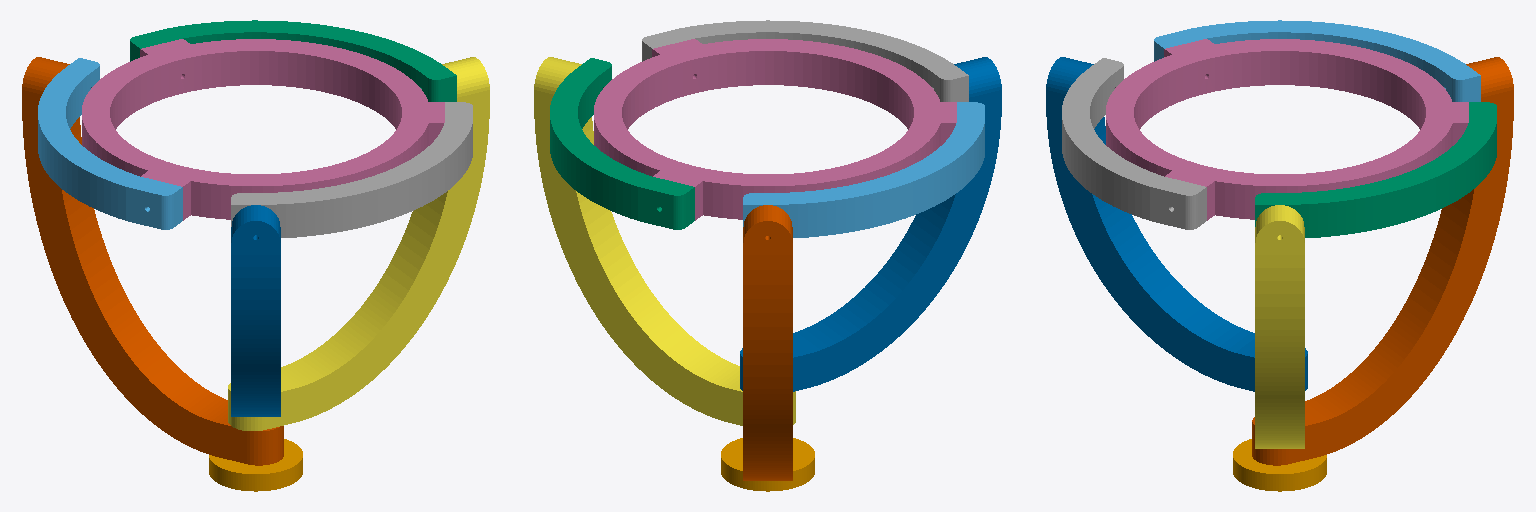
URDF robot description (parallel_manipulator_v2):
<?xml version="1.0" ?>
<robot name="parallel_manipulator_v2">

<material name="silver">
  <color rgba="0.700 0.700 0.700 1.000"/>
</material>

<link name="base_link">
  <inertial>
    <origin xyz="1.629259084781521e-06 -4.365586561478258e-07 -0.1949999999999999" rpy="0 0 0"/>
    <mass value="0.15357950576430882"/>
    <inertia ixx="2.536301546242955e-05" iyy="2.536301546234975e-05" izz="4.816637249537103e-05" ixy="-2.2311041906111956e-20" iyz="-3.9042924912502906e-20" ixz="-6.135694911673338e-20"/>
  </inertial>
  <visual>
    <origin xyz="0 0 0" rpy="0 0 0"/>
    <geometry>
      <mesh filename="meshes/base_link.stl" scale="0.001 0.001 0.001"/>
    </geometry>
    <material name="silver"/>
    <material/>
  </visual>
  <collision>
    <origin xyz="0 0 0" rpy="0 0 0"/>
    <geometry>
      <mesh filename="meshes/base_link.stl" scale="0.001 0.001 0.001"/>
    </geometry>
  </collision>
</link>

<link name="link21">
  <inertial>
    <origin xyz="-0.03324247590388492 -0.0758002087223684 4.898361939060346e-18" rpy="0 0 0"/>
    <mass value="0.45547965177818356"/>
    <inertia ixx="0.0011681570689737106" iyy="0.00016851636729551481" izz="0.001306199417929717" ixy="-0.0002855871231870762" iyz="-3.4743503220991665e-20" ixz="2.206353275084071e-19"/>
  </inertial>
  <visual>
    <origin xyz="0.057865 -0.100227 -0.0" rpy="0 0 0"/>
    <geometry>
      <mesh filename="meshes/link21.stl" scale="0.001 0.001 0.001"/>
    </geometry>
    <material name="silver"/>
    <material/>
  </visual>
  <collision>
    <origin xyz="0.057865 -0.100227 -0.0" rpy="0 0 0"/>
    <geometry>
      <mesh filename="meshes/link21.stl" scale="0.001 0.001 0.001"/>
    </geometry>
  </collision>
</link>

<link name="link11">
  <inertial>
    <origin xyz="-0.04902409142648638 0.06668874911040017 0.0" rpy="0 0 0"/>
    <mass value="0.45547965177818334"/>
    <inertia ixx="0.0006657522463887869" iyy="0.0006709211898804374" izz="0.001306199417929716" ixy="0.000575650682748645" iyz="-4.908429218630772e-19" ixz="0.0"/>
  </inertial>
  <visual>
    <origin xyz="-0.115734 0.0 -0.0" rpy="0 0 0"/>
    <geometry>
      <mesh filename="meshes/link11.stl" scale="0.001 0.001 0.001"/>
    </geometry>
    <material name="silver"/>
    <material/>
  </visual>
  <collision>
    <origin xyz="-0.115734 0.0 -0.0" rpy="0 0 0"/>
    <geometry>
      <mesh filename="meshes/link11.stl" scale="0.001 0.001 0.001"/>
    </geometry>
  </collision>
</link>

<link name="link51">
  <inertial>
    <origin xyz="0.08215721093458689 -4.3655865613396777e-07 0.06952242193395955" rpy="0 0 0"/>
    <mass value="1.0150113529400209"/>
    <inertia ixx="0.0029729990597885288" iyy="0.004766557329442454" izz="0.0019058159288479707" ixy="3.714239473710107e-19" iyz="-3.15552860076729e-19" ixz="-0.0020157152695402403"/>
  </inertial>
  <visual>
    <origin xyz="-2e-06 0.0 0.17" rpy="0 0 0"/>
    <geometry>
      <mesh filename="meshes/link51.stl" scale="0.001 0.001 0.001"/>
    </geometry>
    <material name="silver"/>
    <material/>
  </visual>
  <collision>
    <origin xyz="-2e-06 0.0 0.17" rpy="0 0 0"/>
    <geometry>
      <mesh filename="meshes/link51.stl" scale="0.001 0.001 0.001"/>
    </geometry>
  </collision>
</link>

<link name="link41">
  <inertial>
    <origin xyz="-0.04017439988018685 -0.06958389617262824 0.06008552157712839" rpy="0 0 0"/>
    <mass value="0.9508914468802544"/>
    <inertia ixx="0.003442287452174054" iyy="0.0025807418276347534" izz="0.0018281247321898916" ixy="-0.0007461203973703019" iyz="0.001445333763697901" ixz="0.0008344638375399512"/>
  </inertial>
  <visual>
    <origin xyz="-2e-06 0.0 0.15" rpy="0 0 0"/>
    <geometry>
      <mesh filename="meshes/link41.stl" scale="0.001 0.001 0.001"/>
    </geometry>
    <material name="silver"/>
    <material/>
  </visual>
  <collision>
    <origin xyz="-2e-06 0.0 0.15" rpy="0 0 0"/>
    <geometry>
      <mesh filename="meshes/link41.stl" scale="0.001 0.001 0.001"/>
    </geometry>
  </collision>
</link>

<link name="link61">
  <inertial>
    <origin xyz="-0.04187640487355906 0.07253098217857246 0.0792058878295866" rpy="0 0 0"/>
    <mass value="1.079131258999788"/>
    <inertia ixx="0.00536124096481776" iyy="0.004432156892161487" izz="0.001977649980589322" ixy="0.0008046104091717857" iyz="-0.00206211986239419" ixz="0.0011905654576544536"/>
  </inertial>
  <visual>
    <origin xyz="-2e-06 0.0 0.19" rpy="0 0 0"/>
    <geometry>
      <mesh filename="meshes/link61.stl" scale="0.001 0.001 0.001"/>
    </geometry>
    <material name="silver"/>
    <material/>
  </visual>
  <collision>
    <origin xyz="-2e-06 0.0 0.19" rpy="0 0 0"/>
    <geometry>
      <mesh filename="meshes/link61.stl" scale="0.001 0.001 0.001"/>
    </geometry>
  </collision>
</link>

<link name="ring1">
  <inertial>
    <origin xyz="2.520472576825055e-07 -0.10000043655865562 -7.274033520878354e-17" rpy="0 0 0"/>
    <mass value="1.3495756390295186"/>
    <inertia ixx="0.005053549887178739" iyy="0.005053549887178443" izz="0.010016882541278834" ixy="-2.71302269538689e-17" iyz="8.924416761146806e-18" ixz="-3.8949917152420185e-33"/>
  </inertial>
  <visual>
    <origin xyz="-0.0 -0.1 -0.0" rpy="0 0 0"/>
    <geometry>
      <mesh filename="meshes/ring1.stl" scale="0.001 0.001 0.001"/>
    </geometry>
    <material name="silver"/>
    <material/>
  </visual>
  <collision>
    <origin xyz="-0.0 -0.1 -0.0" rpy="0 0 0"/>
    <geometry>
      <mesh filename="meshes/ring1.stl" scale="0.001 0.001 0.001"/>
    </geometry>
  </collision>
</link>

<link name="link31">
  <inertial>
    <origin xyz="-0.06220304726877052 -0.04111728662265633 0.0" rpy="0 0 0"/>
    <mass value="0.4554796517781839"/>
    <inertia ixx="0.00017110083904134247" iyy="0.0011655725972278847" izz="0.0013061994179297187" ixy="-0.0002900635595615679" iyz="0.0" ixz="0.0"/>
  </inertial>
  <visual>
    <origin xyz="-0.086603 0.05 -0.0" rpy="0 0 0"/>
    <geometry>
      <mesh filename="meshes/link31.stl" scale="0.001 0.001 0.001"/>
    </geometry>
    <material name="silver"/>
    <material/>
  </visual>
  <collision>
    <origin xyz="-0.086603 0.05 -0.0" rpy="0 0 0"/>
    <geometry>
      <mesh filename="meshes/link31.stl" scale="0.001 0.001 0.001"/>
    </geometry>
  </collision>
</link>

<joint name="Revolute_3" type="continuous">
  <origin xyz="-0.057867 0.100227 0.19" rpy="0 0 0"/>
  <parent link="link61"/>
  <child link="link21"/>
  <axis xyz="0.5 -0.866025 0.0"/>
</joint>
<transmission name="Revolute_3_tran">
  <type>transmission_interface/SimpleTransmission</type>
  <joint name="Revolute_3">
    <hardwareInterface>PositionJointInterface</hardwareInterface>
  </joint>
  <actuator name="Revolute_3_actr">
    <hardwareInterface>PositionJointInterface</hardwareInterface>
    <mechanicalReduction>1</mechanicalReduction>
  </actuator>
</transmission>

<joint name="Revolute_4" type="continuous">
  <origin xyz="0.115732 0.0 0.17" rpy="0 0 0"/>
  <parent link="link51"/>
  <child link="link11"/>
  <axis xyz="-1.0 0.0 0.0"/>
</joint>
<transmission name="Revolute_4_tran">
  <type>transmission_interface/SimpleTransmission</type>
  <joint name="Revolute_4">
    <hardwareInterface>PositionJointInterface</hardwareInterface>
  </joint>
  <actuator name="Revolute_4_actr">
    <hardwareInterface>PositionJointInterface</hardwareInterface>
    <mechanicalReduction>1</mechanicalReduction>
  </actuator>
</transmission>

<joint name="Revolute_8" type="continuous">
  <origin xyz="0.0 0.0 0.02" rpy="0 0 0"/>
  <parent link="link61"/>
  <child link="link51"/>
  <axis xyz="0.0 0.0 -1.0"/>
</joint>
<transmission name="Revolute_8_tran">
  <type>transmission_interface/SimpleTransmission</type>
  <joint name="Revolute_8">
    <hardwareInterface>PositionJointInterface</hardwareInterface>
  </joint>
  <actuator name="Revolute_8_actr">
    <hardwareInterface>PositionJointInterface</hardwareInterface>
    <mechanicalReduction>1</mechanicalReduction>
  </actuator>
</transmission>

<joint name="Revolute_9" type="continuous">
  <origin xyz="0.0 0.0 0.02" rpy="0 0 0"/>
  <parent link="link51"/>
  <child link="link41"/>
  <axis xyz="0.0 0.0 -1.0"/>
</joint>
<transmission name="Revolute_9_tran">
  <type>transmission_interface/SimpleTransmission</type>
  <joint name="Revolute_9">
    <hardwareInterface>PositionJointInterface</hardwareInterface>
  </joint>
  <actuator name="Revolute_9_actr">
    <hardwareInterface>PositionJointInterface</hardwareInterface>
    <mechanicalReduction>1</mechanicalReduction>
  </actuator>
</transmission>

<joint name="Rigid_10" type="fixed">
  <origin xyz="2e-06 0.0 -0.19" rpy="0 0 0"/>
  <parent link="base_link"/>
  <child link="link61"/>
</joint>

<joint name="Revolute_12" type="continuous">
  <origin xyz="-0.115734 0.1 0.0" rpy="0 0 0"/>
  <parent link="link11"/>
  <child link="ring1"/>
  <axis xyz="0.0 1.0 0.0"/>
</joint>
<transmission name="Revolute_12_tran">
  <type>transmission_interface/SimpleTransmission</type>
  <joint name="Revolute_12">
    <hardwareInterface>PositionJointInterface</hardwareInterface>
  </joint>
  <actuator name="Revolute_12_actr">
    <hardwareInterface>PositionJointInterface</hardwareInterface>
    <mechanicalReduction>1</mechanicalReduction>
  </actuator>
</transmission>

<joint name="Revolute_13" type="continuous">
  <origin xyz="0.086603 -0.15 0.0" rpy="0 0 0"/>
  <parent link="ring1"/>
  <child link="link31"/>
  <axis xyz="-0.866025 0.5 0.0"/>
</joint>
<transmission name="Revolute_13_tran">
  <type>transmission_interface/SimpleTransmission</type>
  <joint name="Revolute_13">
    <hardwareInterface>PositionJointInterface</hardwareInterface>
  </joint>
  <actuator name="Revolute_13_actr">
    <hardwareInterface>PositionJointInterface</hardwareInterface>
    <mechanicalReduction>1</mechanicalReduction>
  </actuator>
</transmission>

</robot>

--- Render facts (derived) ---
Views: 3 orthographic renders of the robot side by side, from view 1: azimuth 30°, elevation 25°; view 2: azimuth 150°, elevation 25°; view 3: azimuth 270°, elevation 25°.
Model parallel_manipulator_v2 with 8 links and 7 joints (6 continuous, 1 fixed), rooted at base_link, posed every joint at zero.
Visible links, largest first — view 1: ring1, link61, link51, link31, link41, link21, link11, base_link; view 2: ring1, link51, link41, link61, link21, link11, link31, base_link; view 3: ring1, link61, link41, link51, link11, link31, link21, base_link.
Boxes of the visible links, x1,y1,x2,y2 form: ring1: (82,39,444,220); link61: (22,57,283,465); link51: (228,57,489,430); link31: (231,102,472,237); link41: (231,205,280,416); link21: (38,58,182,229); link11: (130,20,456,101); base_link: (209,439,302,491); ring1: (594,39,956,220); link51: (534,57,795,425); link41: (740,57,1001,391); link61: (743,205,792,480); link21: (743,102,984,237); link11: (550,58,694,229); link31: (642,20,968,101); base_link: (721,438,814,491); ring1: (1106,39,1468,220); link61: (1252,57,1513,465); link41: (1046,57,1307,391); link51: (1255,205,1304,448); link11: (1255,102,1496,237); link31: (1062,58,1206,229); link21: (1154,20,1480,101); base_link: (1233,439,1326,491).
Bounding box of the posed robot: 0.2515 × 0.2481 × 0.21 m (x, y, z).
8 mesh visuals loaded from 8 distinct referenced files (8 binary STL).